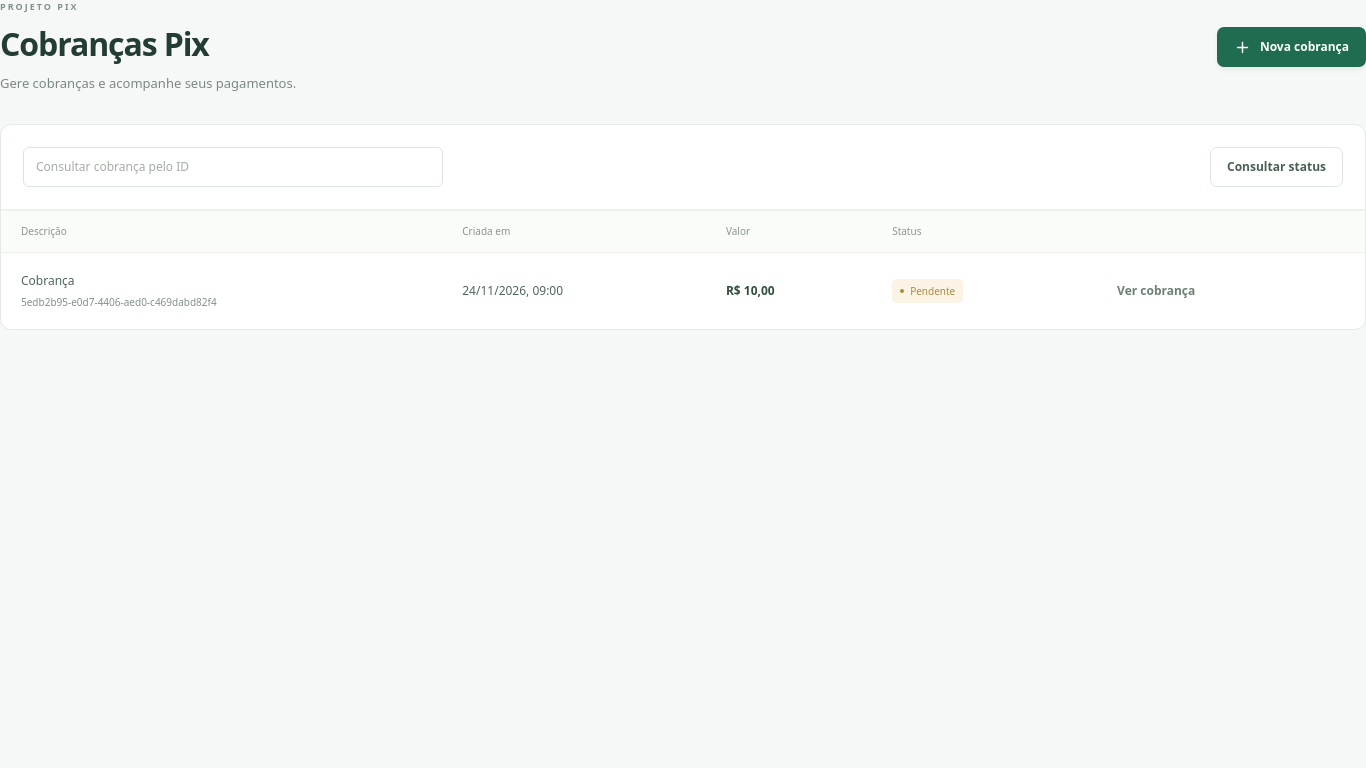
Scenario: para de consultar a cobrança quando o servidor informa PAID
Click the button "Ver cobrança": click(1156, 291) [1100,271,1212,311]
Wait 30000 ms
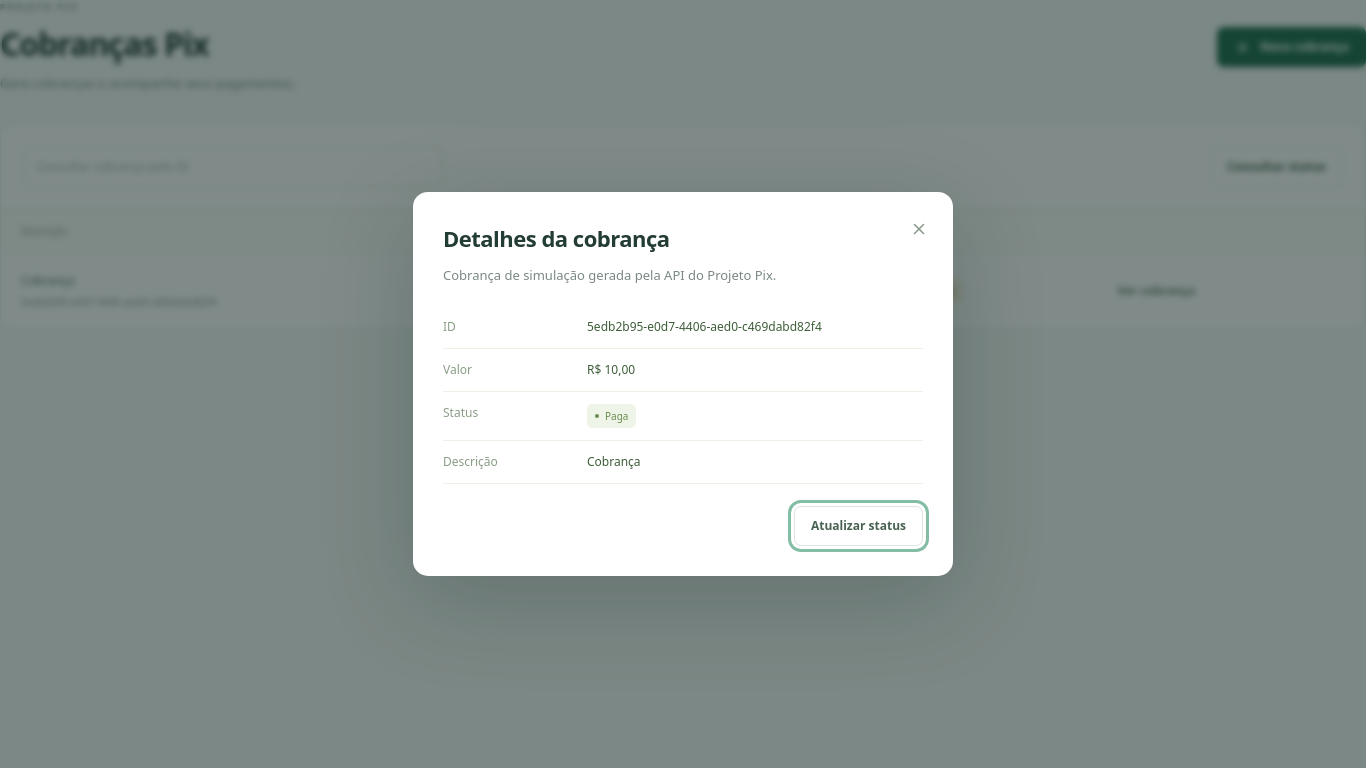
Expected: the text "Paga" is shown, [587,404,636,428]
